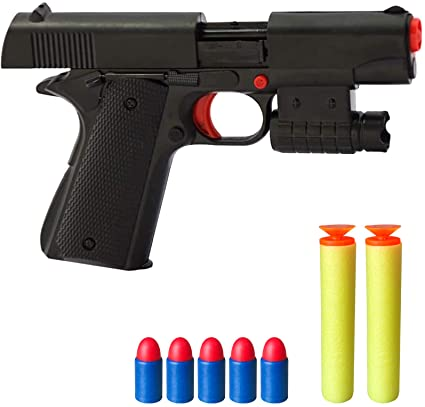Arma Falsa: (1, 4, 404, 269)
